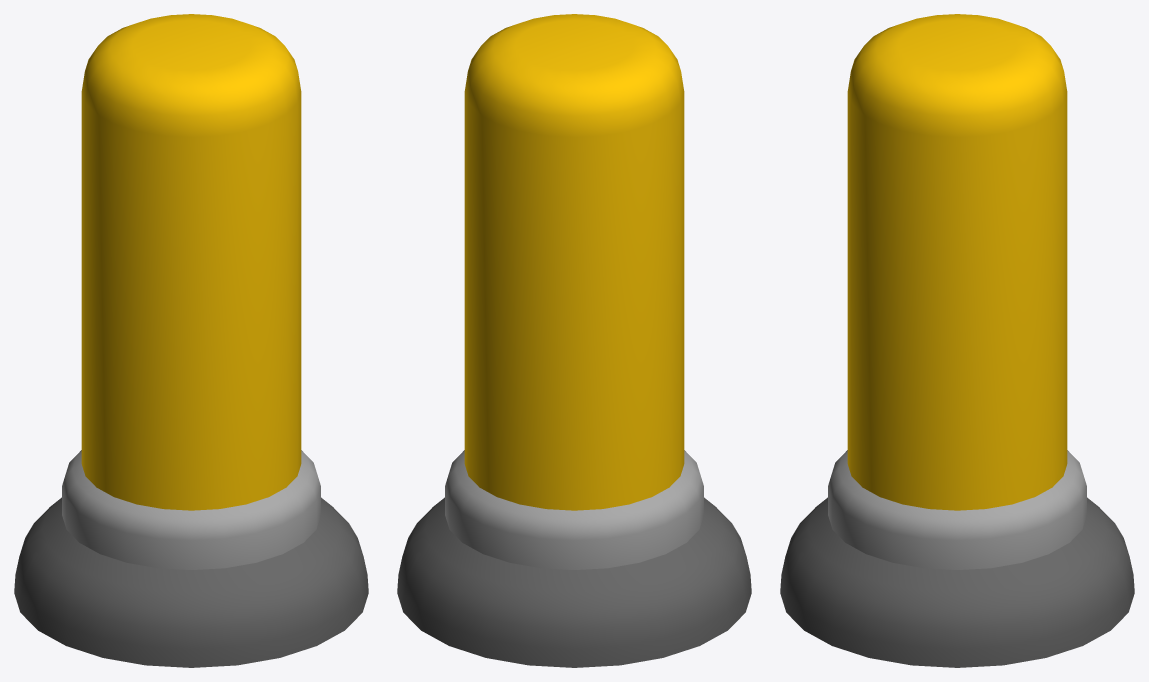
Rendered from DecorMachine_Pastry_MachineSprinkles.FBX.
3 views of the same model, side by side, from view 1: azimuth 30°, elevation 25°; view 2: azimuth 150°, elevation 25°; view 3: azimuth 270°, elevation 25° (orthographic).
Parts seen in each view (by area): view 1: DecorMachine_Pastry_MachineSprinkles; view 2: DecorMachine_Pastry_MachineSprinkles; view 3: DecorMachine_Pastry_MachineSprinkles.
Part boxes in pixels (box(x1,y1,x2,y2)): DecorMachine_Pastry_MachineSprinkles: box(14, 14, 368, 667); DecorMachine_Pastry_MachineSprinkles: box(397, 14, 751, 667); DecorMachine_Pastry_MachineSprinkles: box(780, 14, 1134, 667).
Size of the model in its own units: 2413 by 4111 by 2413.
